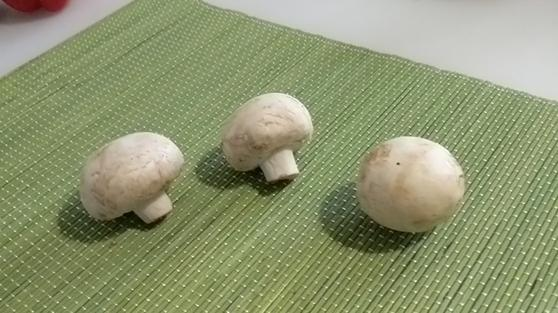champignon: (352, 137, 465, 235), (81, 130, 188, 223), (225, 92, 314, 185)
